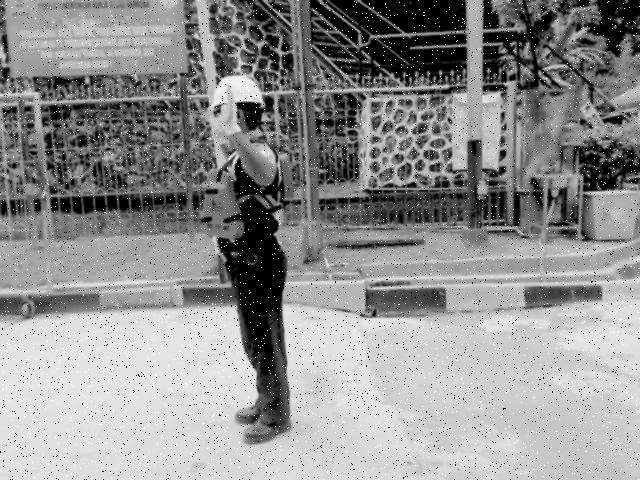glasses: (212, 110, 220, 118)
gloves: (219, 83, 243, 139)
helmet: (203, 76, 266, 108)
mask: (210, 119, 229, 142)
safety-shoes: (241, 412, 295, 447), (233, 396, 263, 423)
vest: (200, 145, 295, 247)
